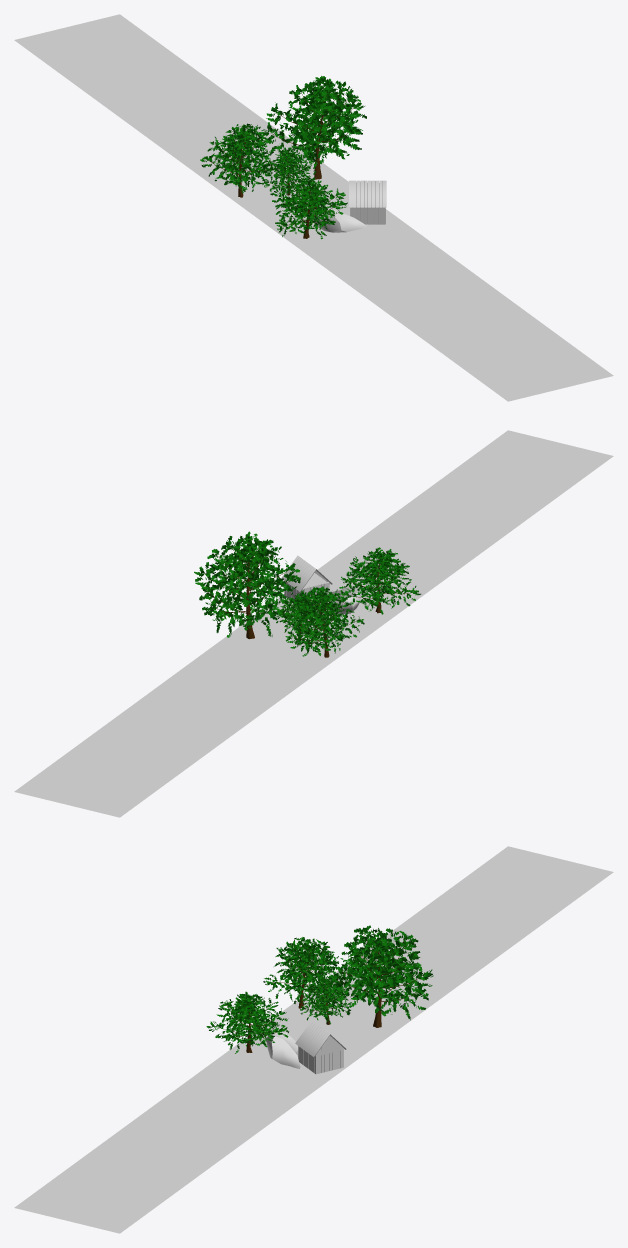
File: Basic 6.fbx
3 renders of one model, top to bottom at view 1: azimuth 30°, elevation 25°; view 2: azimuth 150°, elevation 25°; view 3: azimuth 330°, elevation 25°, orthographic.
Visible parts, largest first — view 1: Plane001, Foliage004, Foliage006, Foliage001, Klube, Foliage007, Tas; view 2: Plane001, Foliage004, Foliage006, Foliage001, Klube, Foliage007; view 3: Plane001, Foliage004, Foliage006, Foliage001, Klube, Foliage007, Tas.
Part boxes in pixels (left/top/right/bottom): Plane001: left=14, top=14, right=613, bottom=401; Foliage004: left=260, top=76, right=366, bottom=179; Foliage006: left=200, top=123, right=274, bottom=197; Foliage001: left=270, top=177, right=347, bottom=239; Klube: left=349, top=180, right=386, bottom=224; Foliage007: left=261, top=147, right=310, bottom=195; Tas: left=309, top=209, right=366, bottom=232; Plane001: left=14, top=430, right=613, bottom=817; Foliage004: left=194, top=531, right=300, bottom=639; Foliage006: left=285, top=586, right=364, bottom=657; Foliage001: left=339, top=547, right=420, bottom=614; Klube: left=281, top=555, right=332, bottom=602; Foliage007: left=276, top=592, right=325, bottom=639; Plane001: left=14, top=846, right=613, bottom=1233; Foliage004: left=327, top=925, right=433, bottom=1027; Foliage006: left=263, top=937, right=340, bottom=1008; Foliage001: left=206, top=991, right=288, bottom=1053; Klube: left=295, top=1020, right=346, bottom=1074; Foliage007: left=300, top=975, right=351, bottom=1024; Tas: left=266, top=1031, right=300, bottom=1068.
Bounding box in the file's own units: 1470 × 1014 × 8000.
